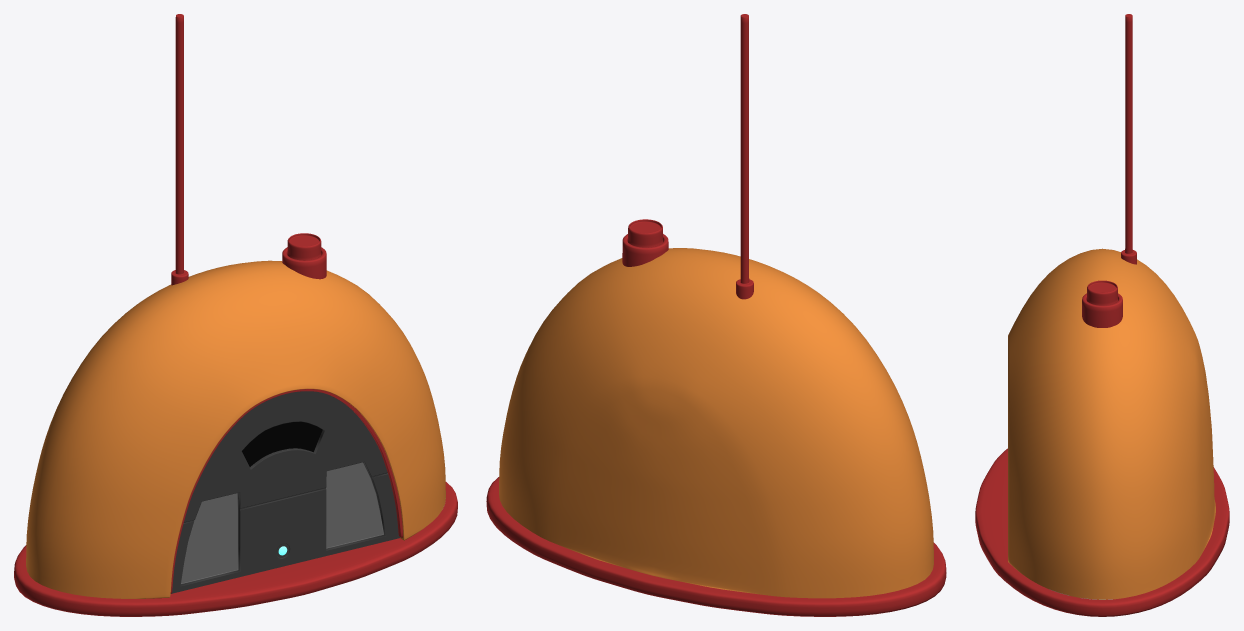
Rendered from radio.fbx.
3 renders of one model, left to right at view 1: azimuth 30°, elevation 25°; view 2: azimuth 150°, elevation 25°; view 3: azimuth 270°, elevation 25°, orthographic. The views are drawn at different scales.
Parts seen in each view (by area): view 1: Shell, Radio, Base, Antenna, Button, Light; view 2: Shell, Base, Antenna, Button; view 3: Shell, Base, Antenna, Button.
Boxes of the visible parts, x1,y1,x2,y2 form: Shell: [26, 260, 445, 598]; Radio: [171, 391, 399, 593]; Base: [14, 482, 457, 616]; Antenna: [171, 14, 188, 285]; Button: [282, 233, 326, 279]; Light: [170, 389, 402, 593]; Shell: [499, 248, 933, 598]; Base: [486, 477, 946, 616]; Antenna: [736, 14, 753, 299]; Button: [622, 219, 668, 266]; Shell: [1008, 248, 1215, 599]; Base: [975, 448, 1229, 616]; Antenna: [1121, 14, 1136, 264]; Button: [1082, 280, 1122, 327].
Size of what is drawn, in the model's own units: 351 by 421 by 199.
